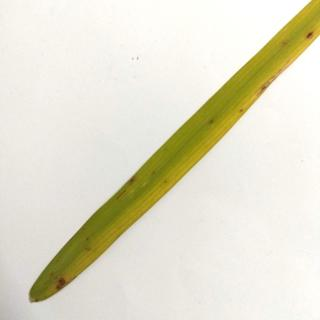bercak-Cokelat: (298, 28, 316, 43)
